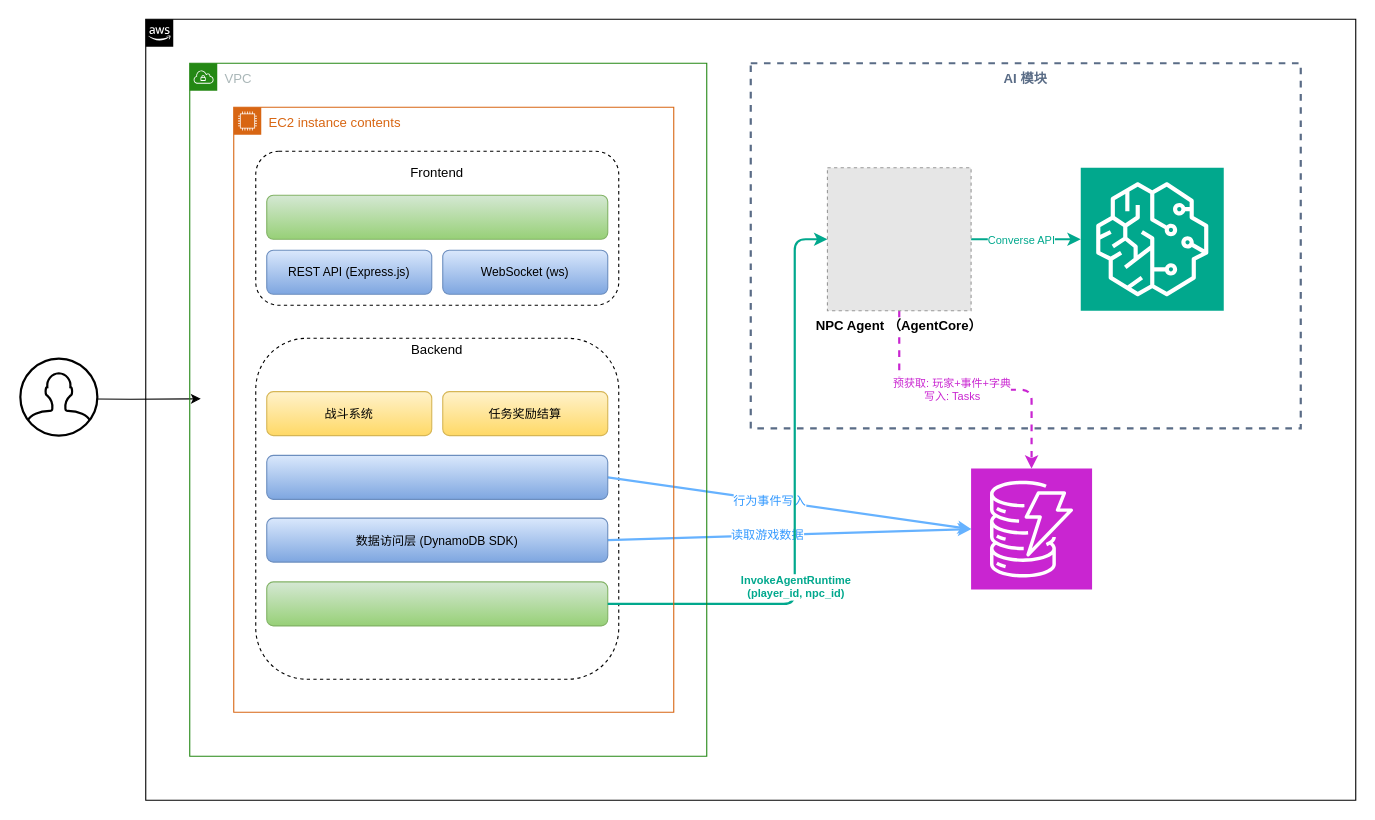
Image size: 1375x820. Some labels were removed from this diagram. Grey dashed boxes stand in for pictures. Each missing label, with the centre of its shape:
"Amazon Bedrock （Haiku 4.5）" belongs at [1152,239].
"Amazon DynamoDB" belongs at [1031,529].
"EventEmitter 玩家行为事件采集" belongs at [437,476].
"Express.js static 前端资源 (Phaser.js)" belongs at [437,216].
"NPC 对话 Handler 调用 AgentCore SDK" belongs at [437,603].
